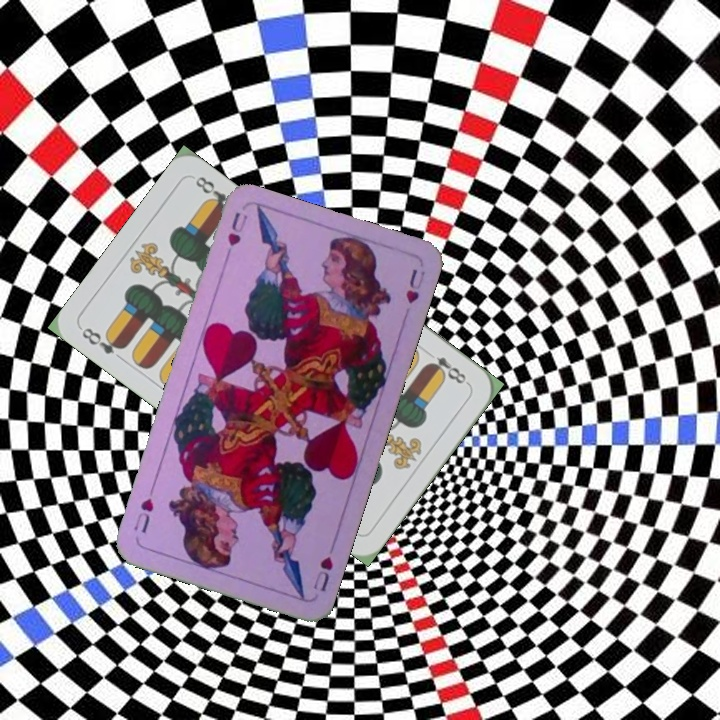E8: (422, 352, 472, 388), (77, 323, 129, 357)
HU: (220, 208, 250, 264), (308, 552, 336, 595)
